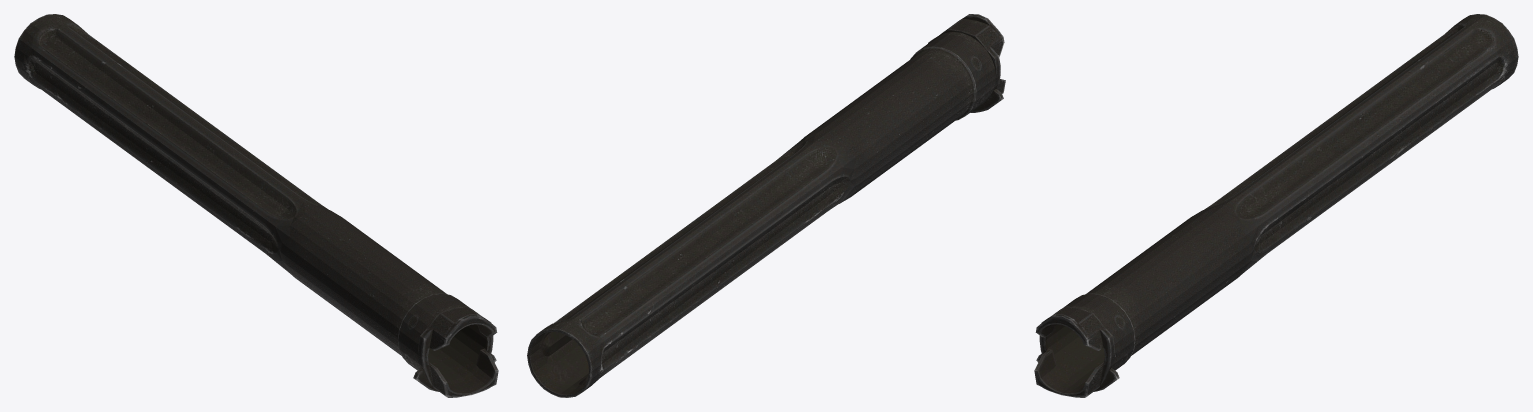
3 views of the same model, side by side, from view 1: azimuth 30°, elevation 25°; view 2: azimuth 150°, elevation 25°; view 3: azimuth 330°, elevation 25° (orthographic).
Parts seen in each view (by area): view 1: TW_5c5039be2e221602b177c9ff_PZ_Import; view 2: TW_5c5039be2e221602b177c9ff_PZ_Import; view 3: TW_5c5039be2e221602b177c9ff_PZ_Import.
Part boxes in pixels (box(x1,y1,x2,y2)): TW_5c5039be2e221602b177c9ff_PZ_Import: box(14, 14, 498, 397); TW_5c5039be2e221602b177c9ff_PZ_Import: box(527, 14, 1005, 397); TW_5c5039be2e221602b177c9ff_PZ_Import: box(1034, 14, 1518, 397).
Size of the model in its own units: 0.0145 by 0.1321 by 0.0147.
Materials: 1 (1 with a texture image).
